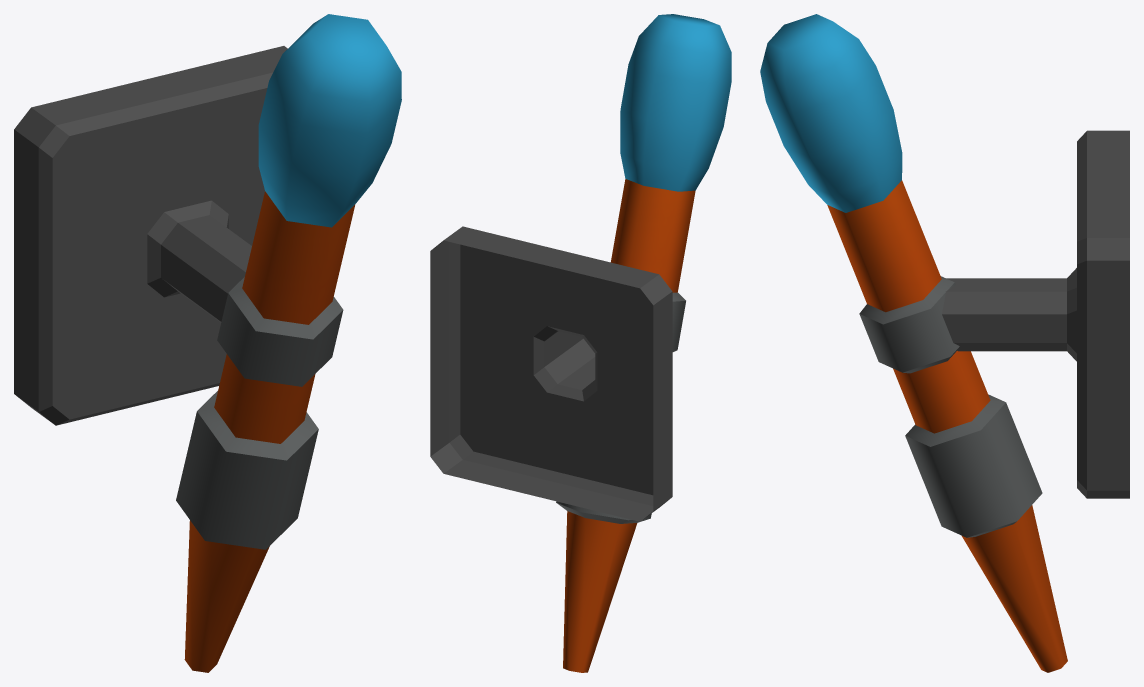
The model's file is Torch_01.fbx.
3 renders of one model, left to right at view 1: azimuth 30°, elevation 25°; view 2: azimuth 150°, elevation 25°; view 3: azimuth 270°, elevation 25°, orthographic. The views are drawn at different scales.
Parts seen in each view (by area): view 1: Torch_01.001; view 2: Torch_01.001; view 3: Torch_01.001.
Boxes of the visible parts, box(x1,y1,x2,y2) form: Torch_01.001: box(14, 14, 401, 672); Torch_01.001: box(430, 14, 731, 672); Torch_01.001: box(760, 14, 1129, 672).
Bounding box in the file's own units: 43.76 × 109 × 56.22.
